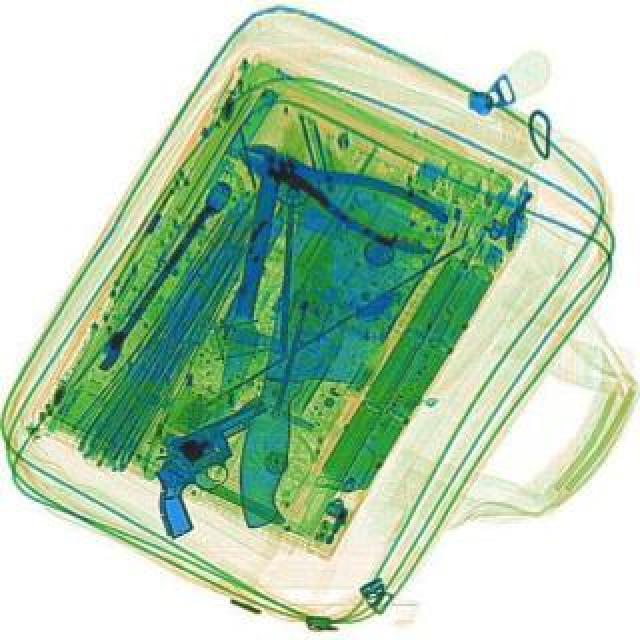gun: (122, 394, 306, 542)
knife: (226, 174, 416, 542), (200, 152, 292, 476)
wrench: (222, 120, 452, 262)
